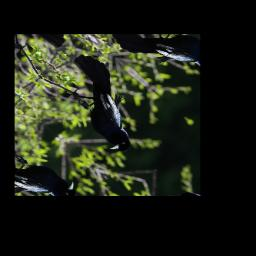Crow: (40, 49, 166, 158)
